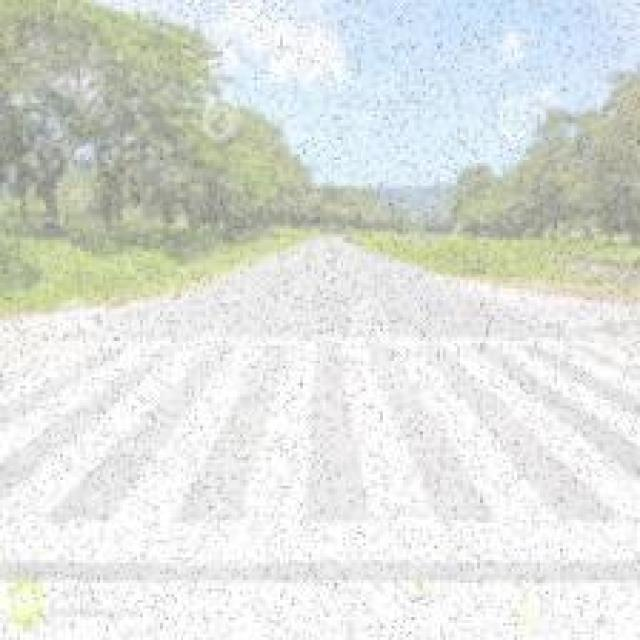crosswalk: (0, 316, 629, 566)
